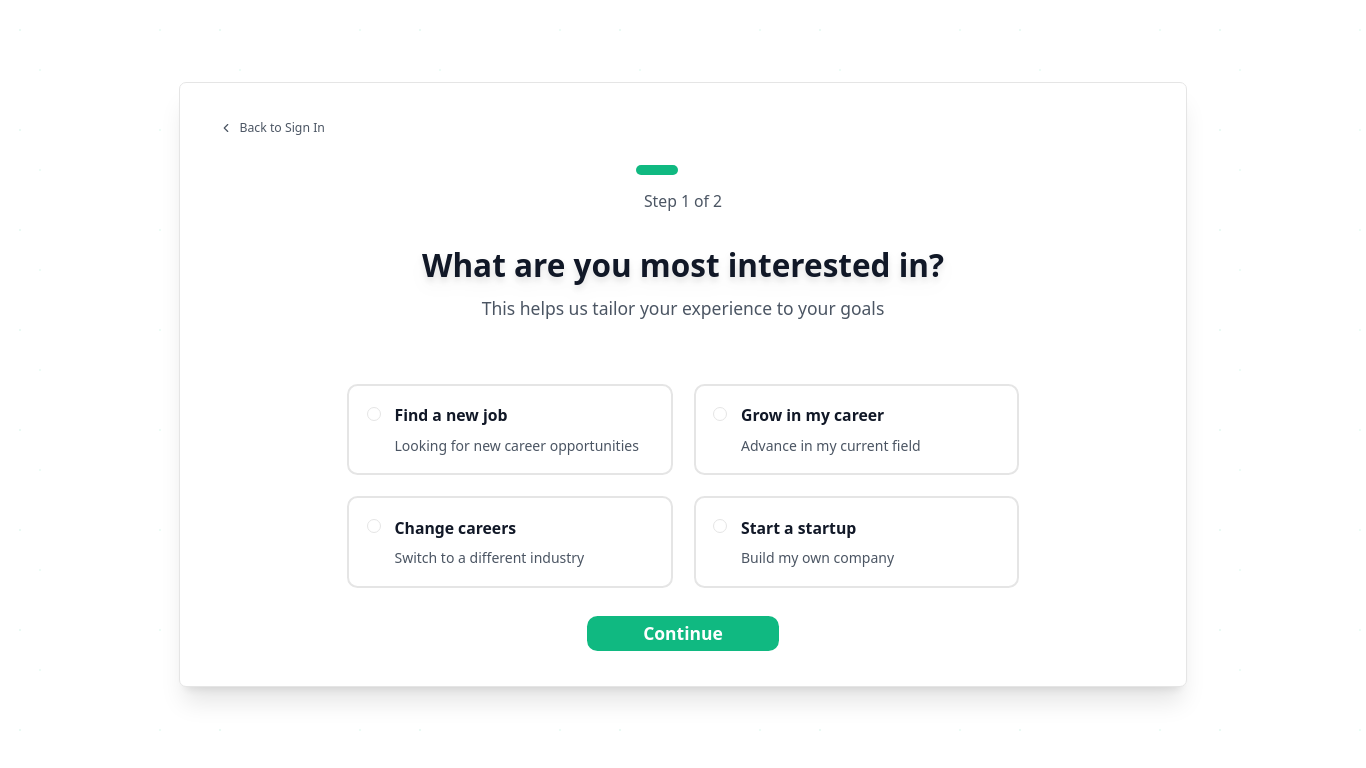
Test: OnboardingStep1 › Form Submission › should show validation error if no selection made
Click the button "Continue" at (683, 633), box 587,616 -> 779,650
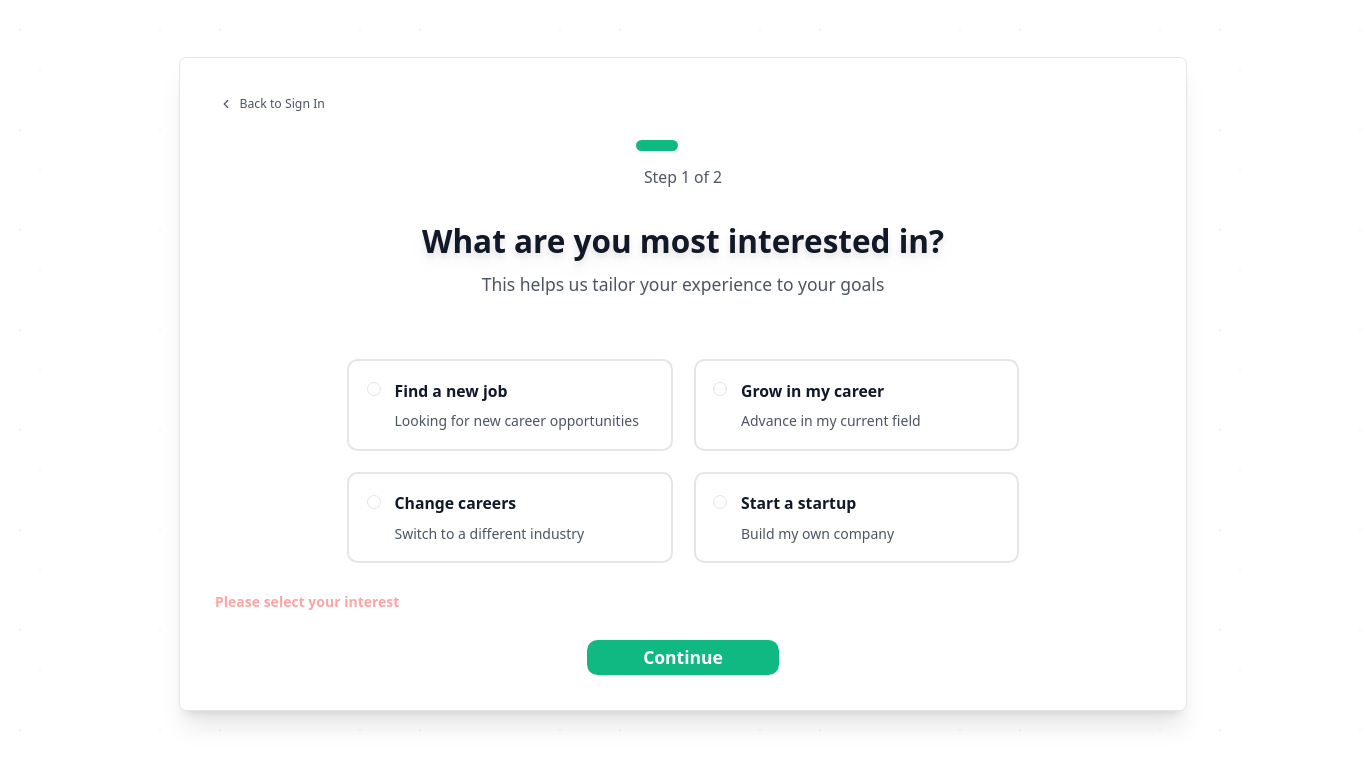
Expected: the text "Please select your interest" is shown, 215,592 -> 399,611
